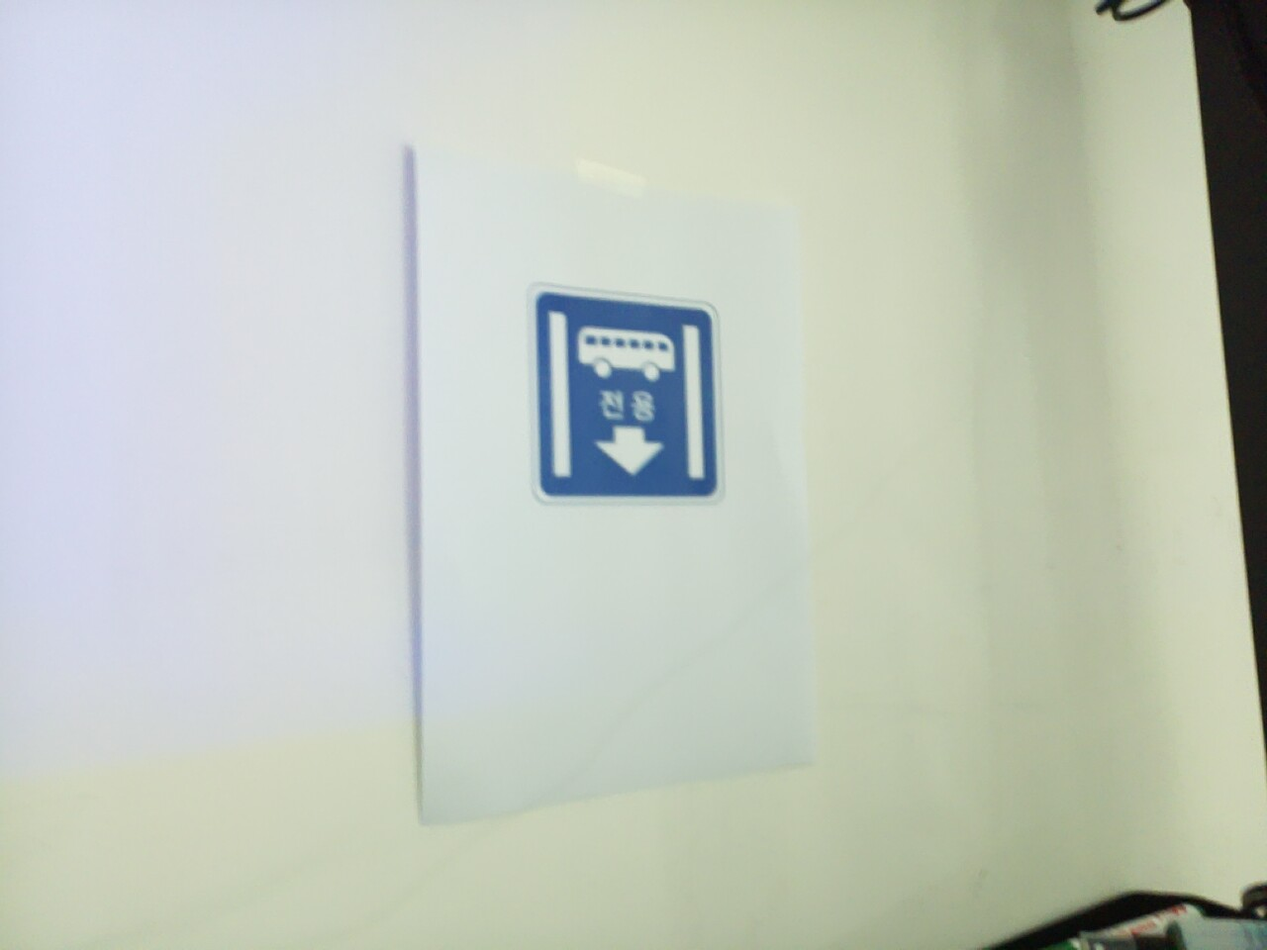bus_only_lane: (529, 284, 725, 505)
